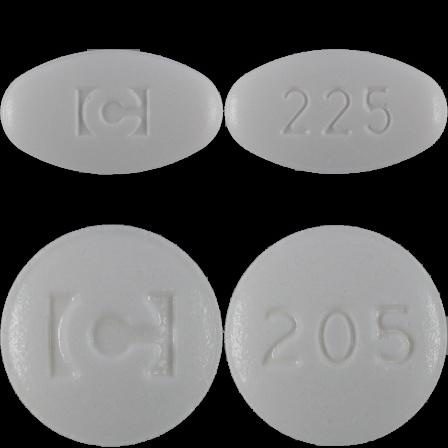0179-0080: (0, 0, 224, 224)
